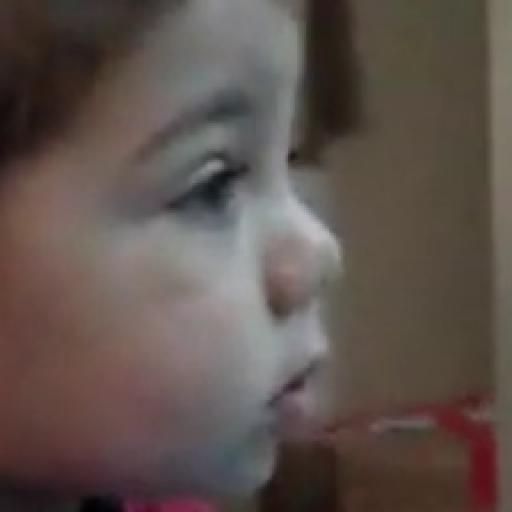Autism: (10, 8, 412, 512)
